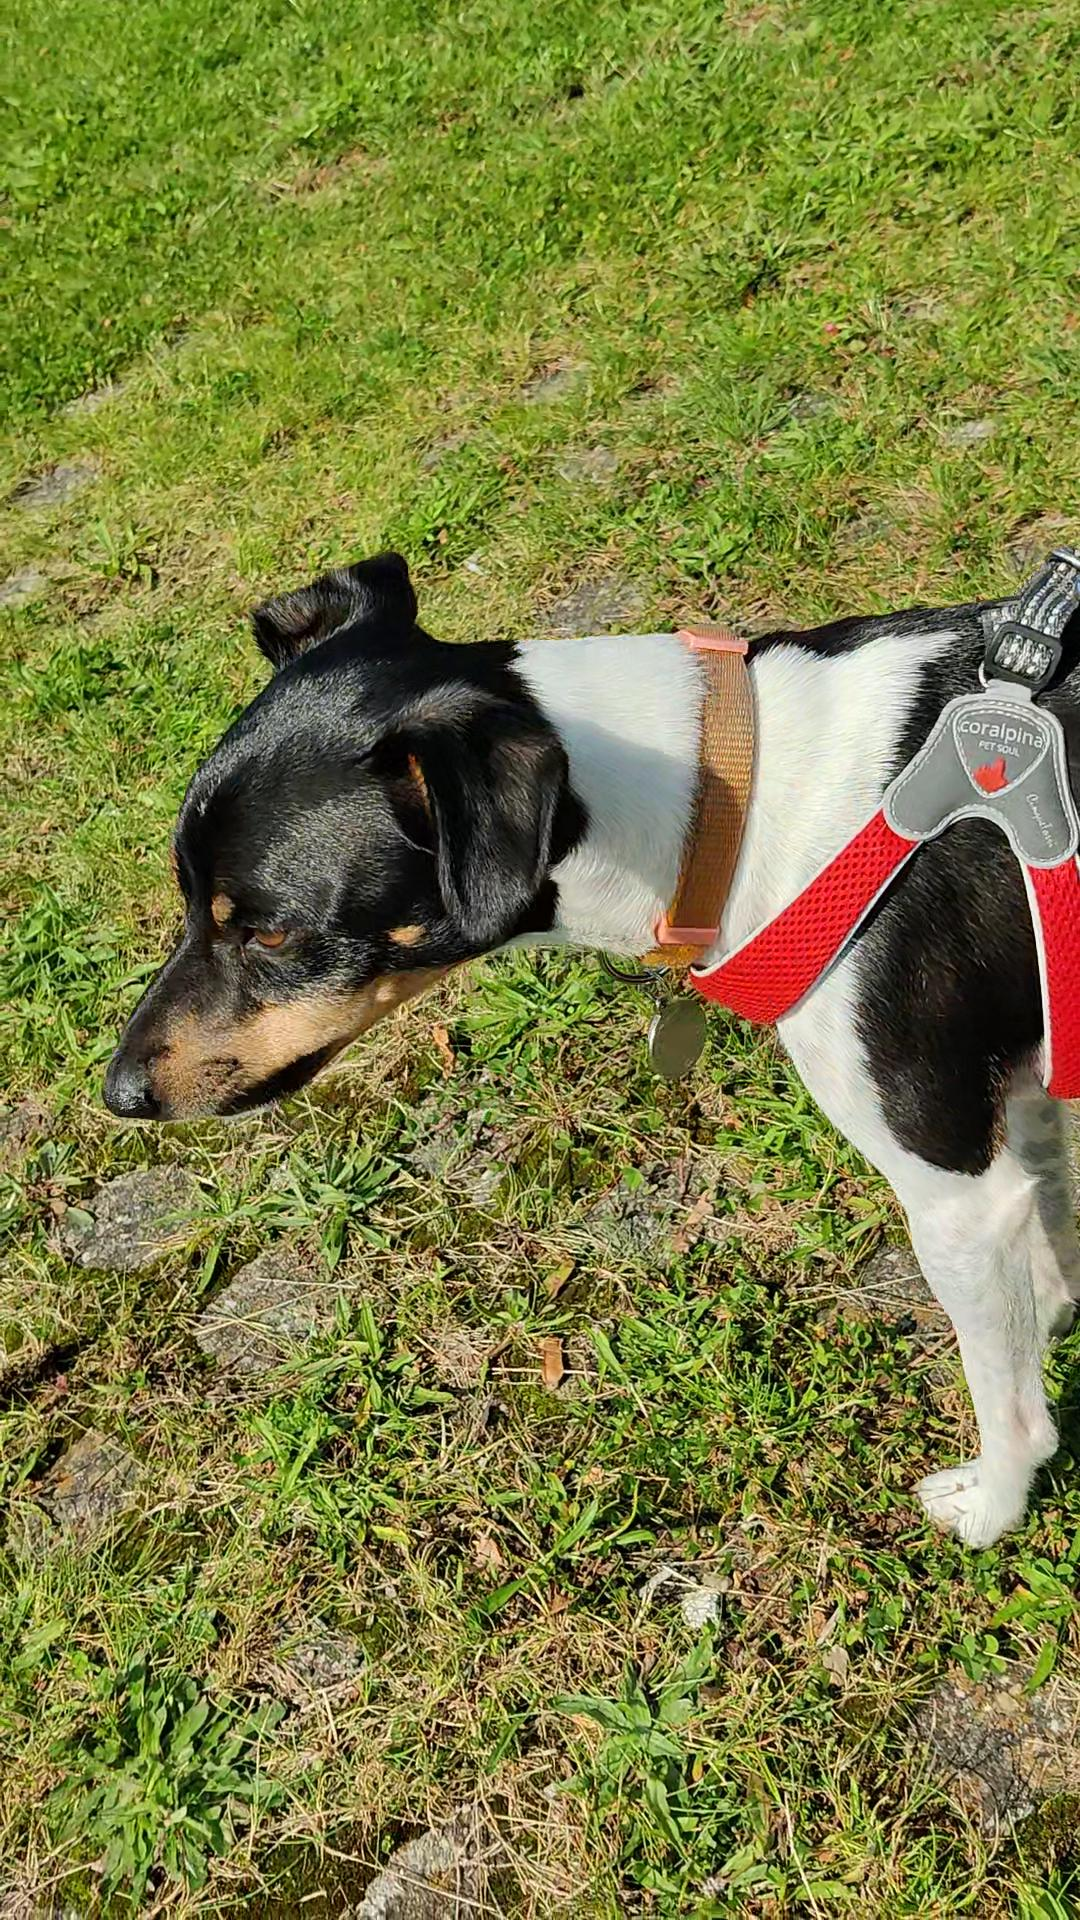Dog: (76, 419, 1079, 1600)
